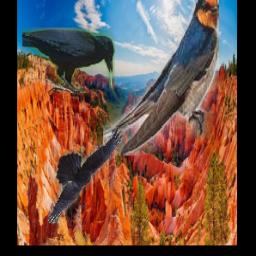Crow: (47, 128, 124, 224), (22, 28, 115, 93)
Swallow: (102, 0, 218, 156)
